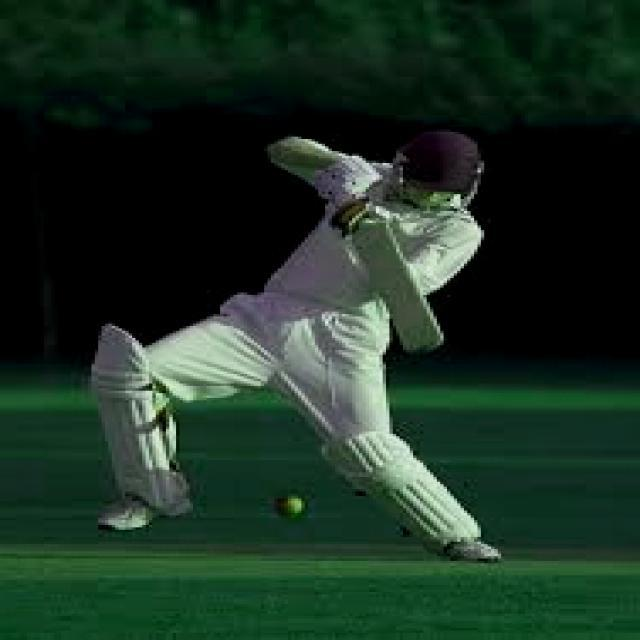bat: (341, 208, 459, 352)
toe: (419, 328, 456, 359)
